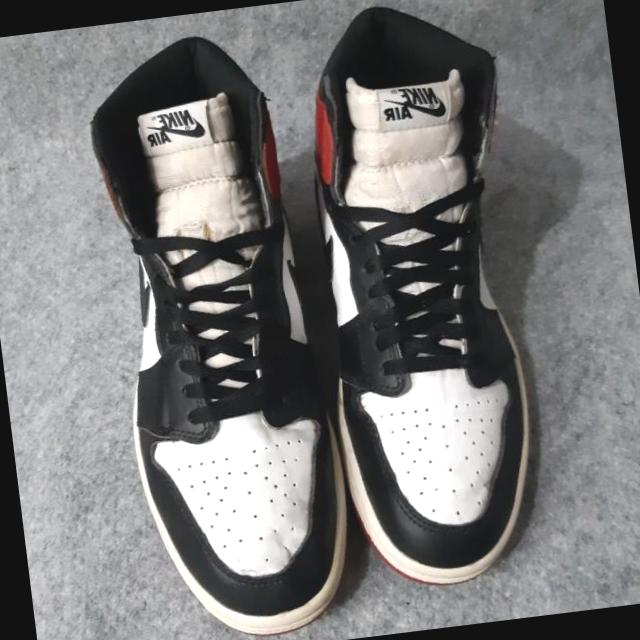nike_fake_jordan: (73, 20, 362, 640), (279, 0, 556, 593)
